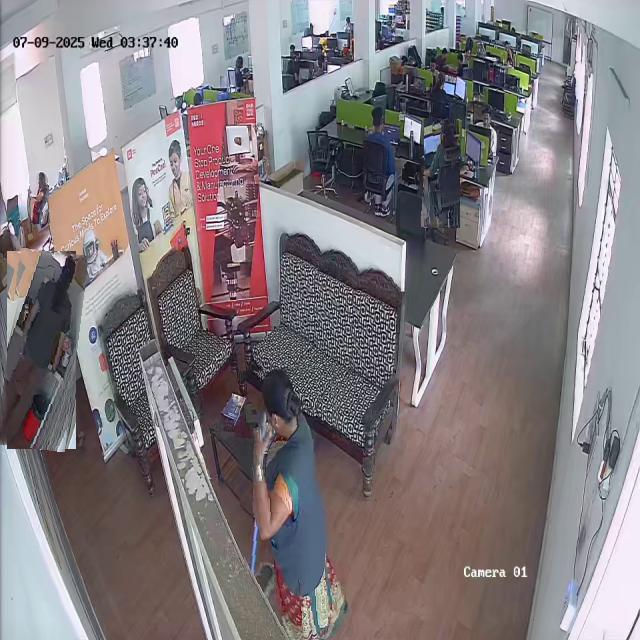person: (236, 365, 349, 640), (1, 250, 82, 450), (423, 119, 461, 228), (364, 106, 400, 215), (30, 172, 50, 224)
